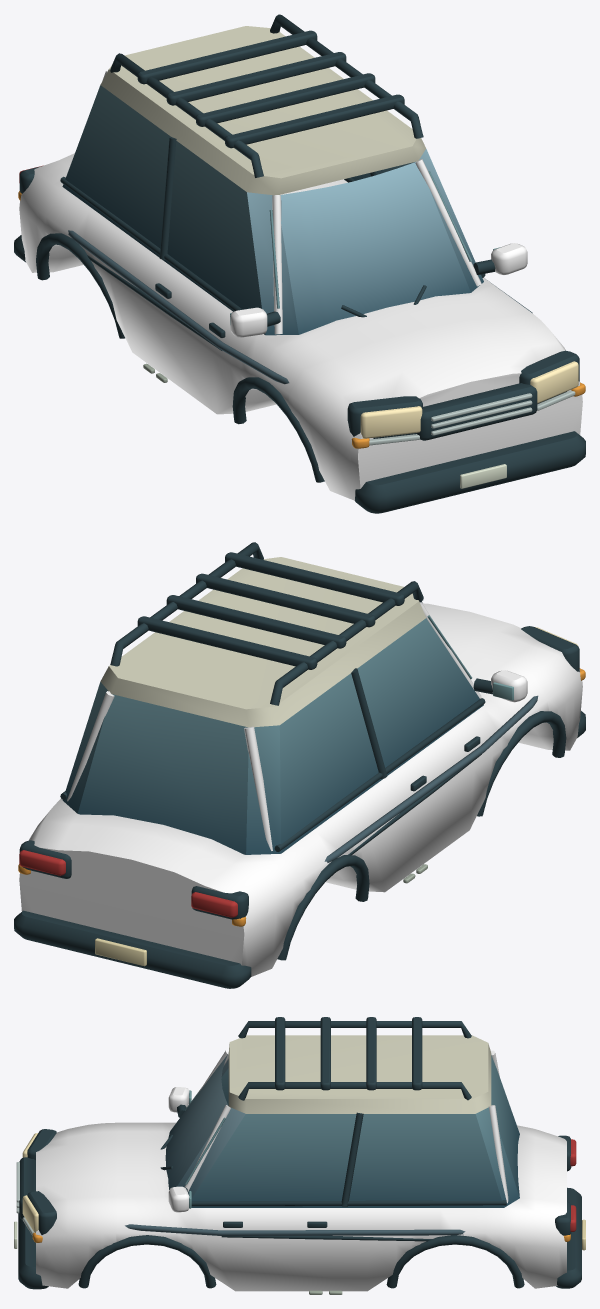
File: pine.glb
The picture shows the model from 3 angles, top to bottom: view 1: azimuth 30°, elevation 25°; view 2: azimuth 150°, elevation 25°; view 3: azimuth 270°, elevation 25°; orthographic projection. The views are drawn at different scales.
Parts seen in each view (by area): view 1: Chassis, Headlamps; view 2: Chassis, BrakeLamps; view 3: Chassis, Headlamps.
Part boxes in pixels (box(x1,y1,x2,y2)): Chassis: box(14, 14, 585, 513); Headlamps: box(360, 361, 578, 438); Chassis: box(14, 542, 585, 988); BrakeLamps: box(19, 850, 237, 917); Chassis: box(14, 1017, 585, 1294); Headlamps: box(22, 1133, 38, 1233).
Size of the model in its own units: 1.86 by 1.54 by 4.01.
